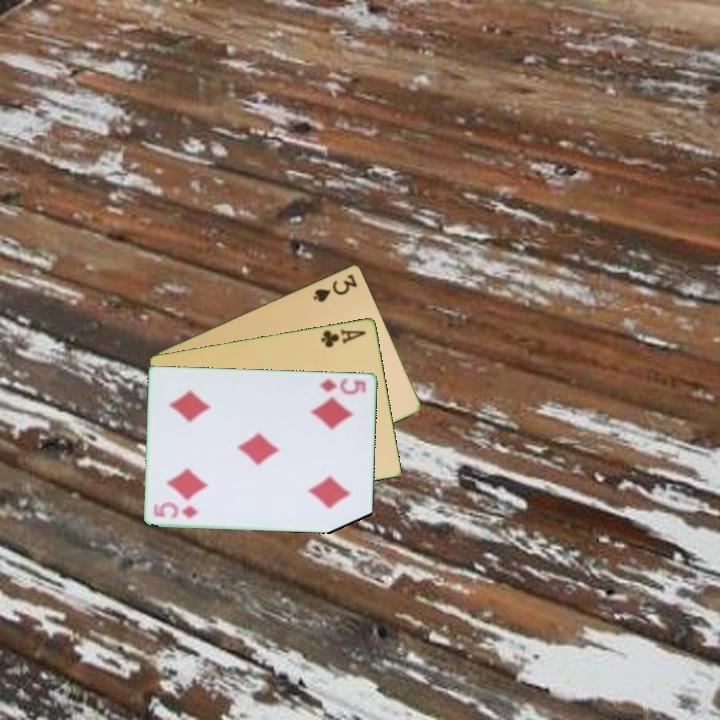3s: (310, 270, 361, 305)
5d: (317, 375, 369, 397), (151, 500, 203, 521)
Ac: (318, 325, 369, 350)
